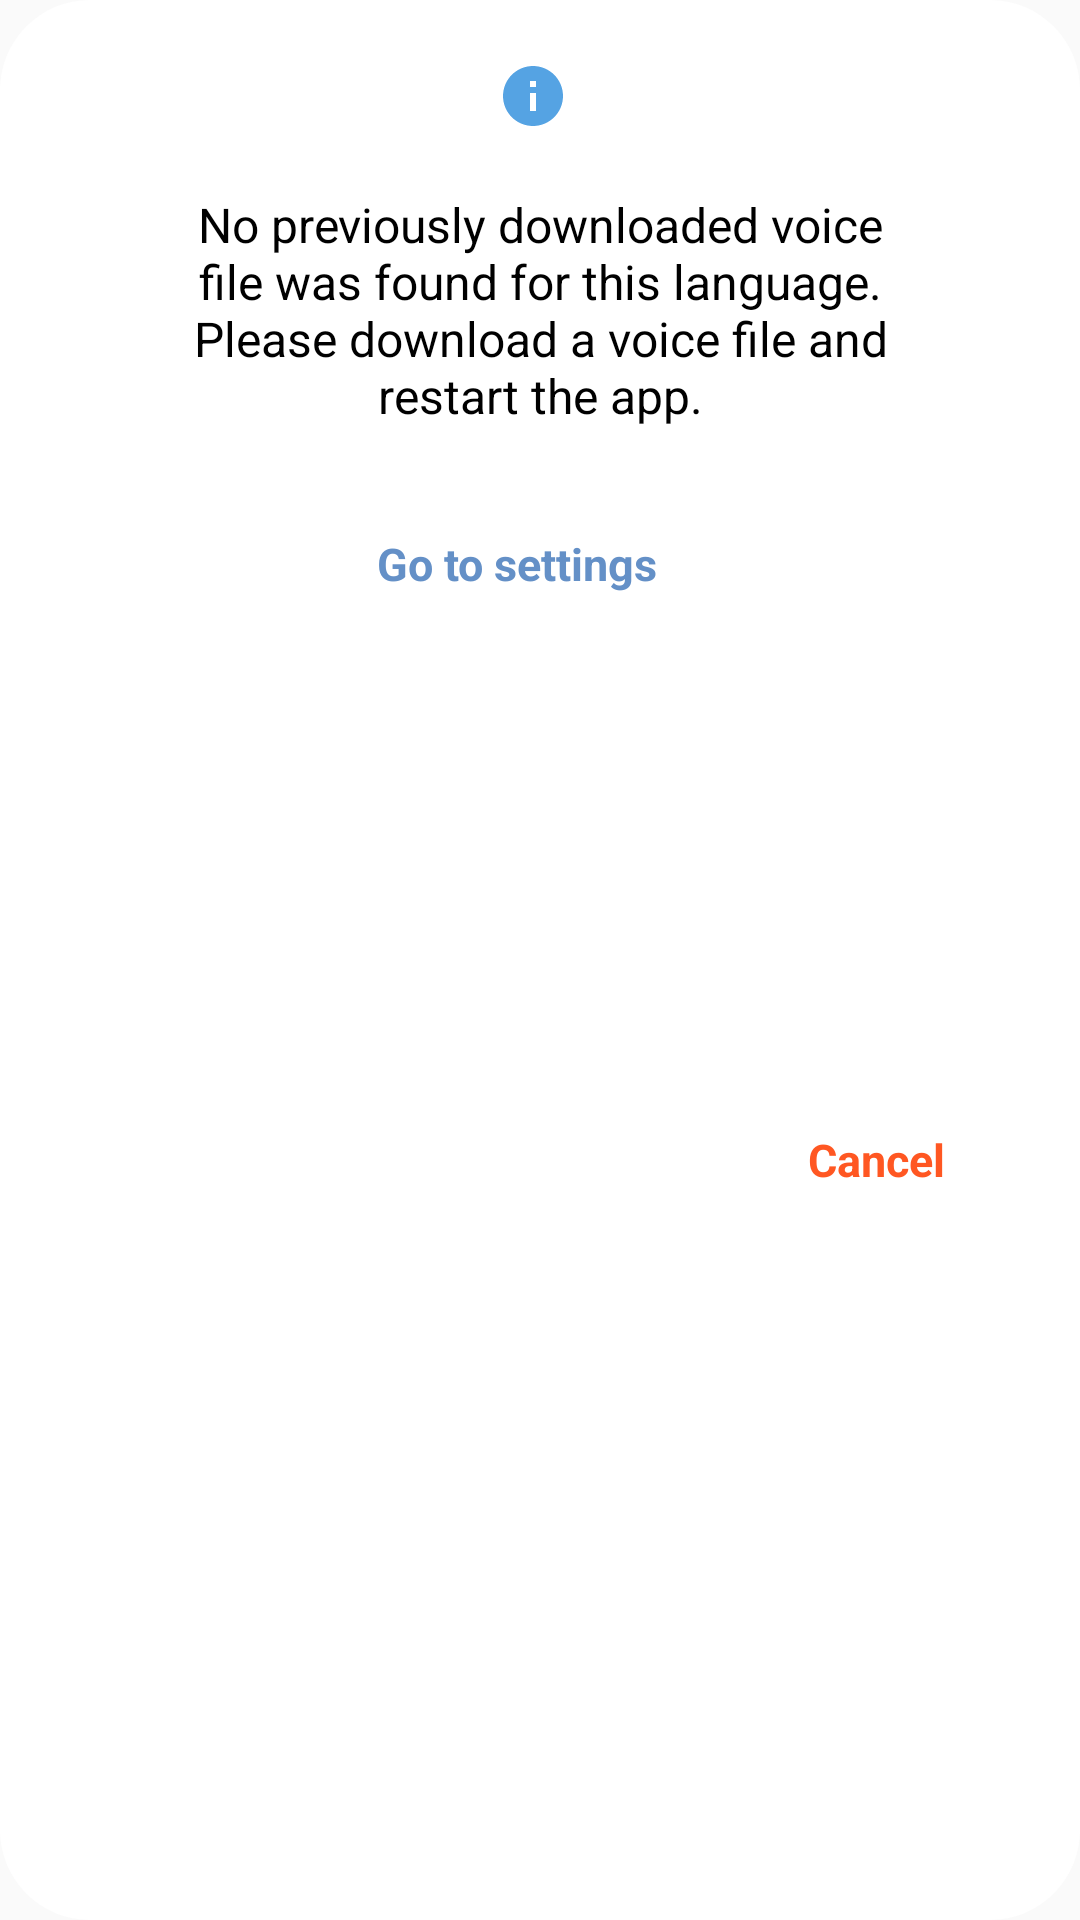

Where to tap for icons on this 1080*1920 app screen, as point (x, y):
info: point (533, 96)
